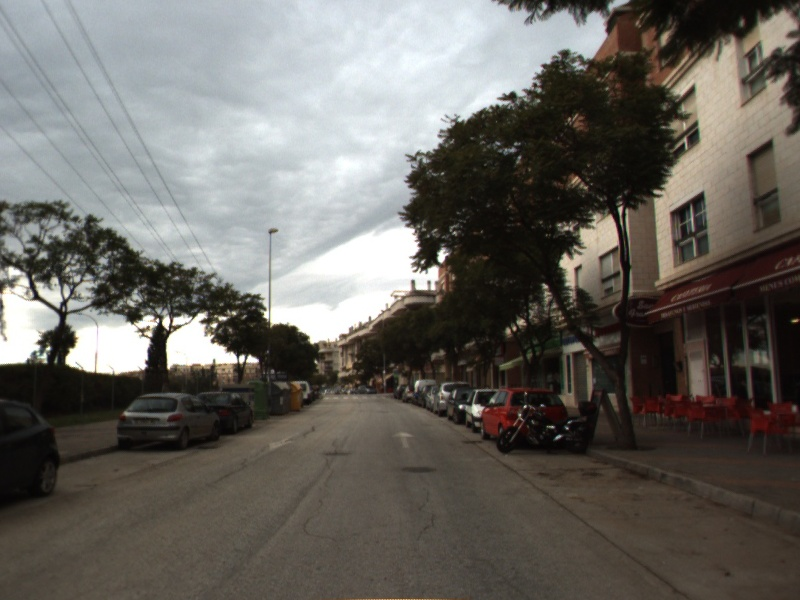STRAIGHT: (389, 429, 419, 450)
